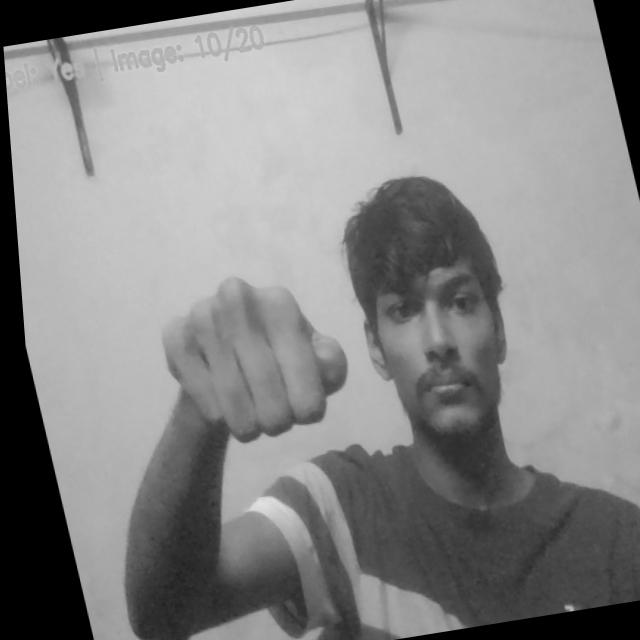Yes: (139, 261, 361, 455)
